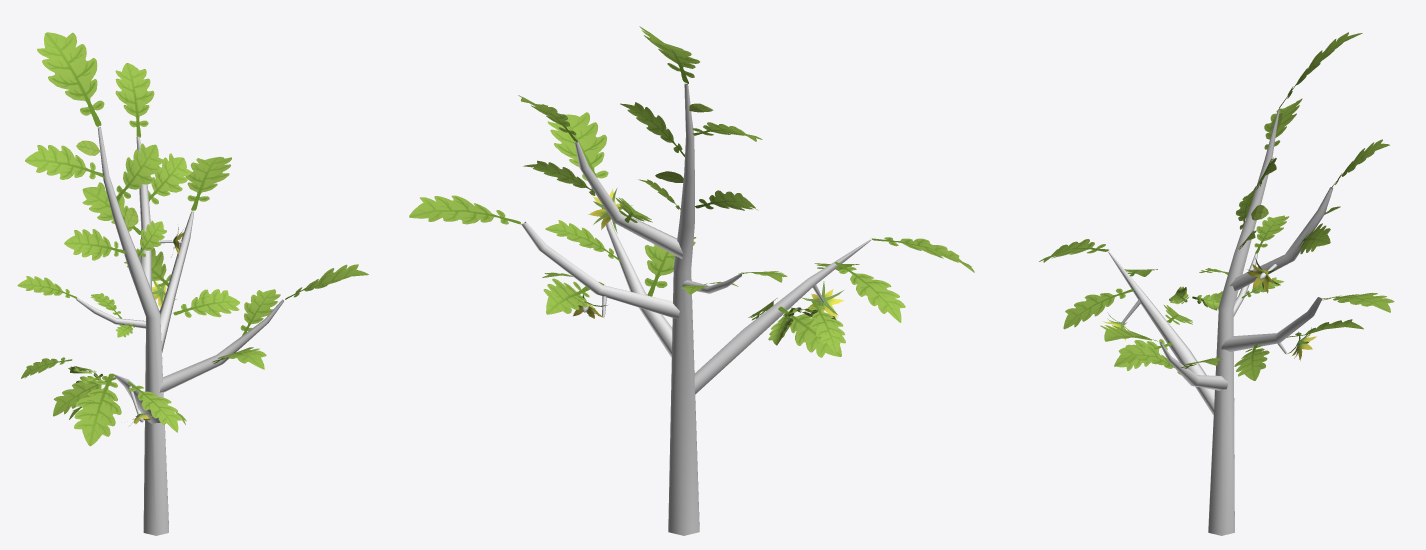
3 views of the same model, side by side, from view 1: azimuth 30°, elevation 25°; view 2: azimuth 150°, elevation 25°; view 3: azimuth 270°, elevation 25° (orthographic). The views are drawn at different scales.
Visible parts, largest first — view 1: 番茄苗02; view 2: 番茄苗02; view 3: 番茄苗02.
Part boxes in pixels (<box>): 番茄苗02: <box>17,32,368,535</box>; 番茄苗02: <box>409,26,974,535</box>; 番茄苗02: <box>1039,32,1394,535</box>.
Bounding box in the file's own units: 55.76 × 73.59 × 53.29.
Materials: 2 (1 with a texture image).
